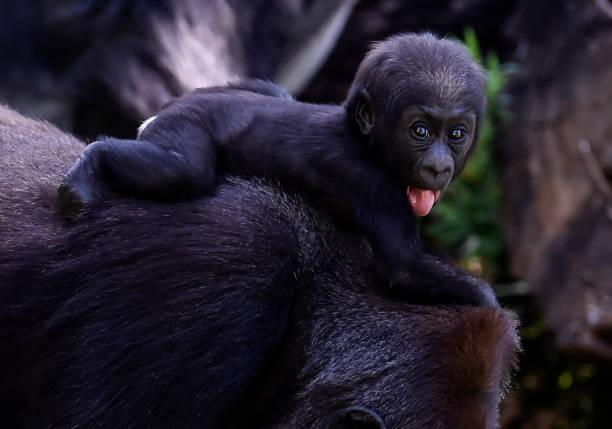gorille_Autres: (94, 38, 510, 295)
